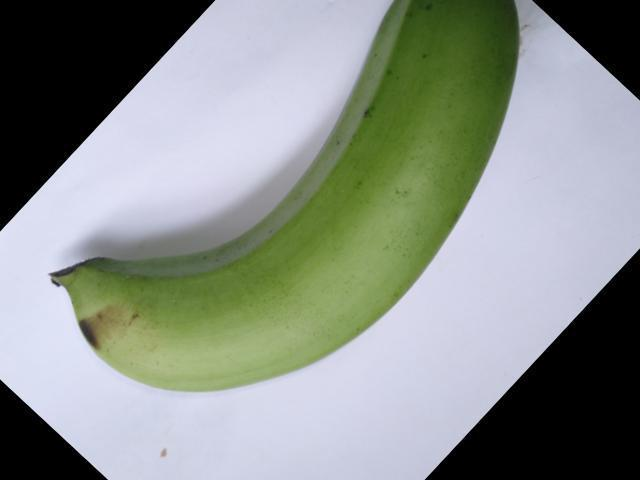freshunripe: (41, 0, 538, 405)
